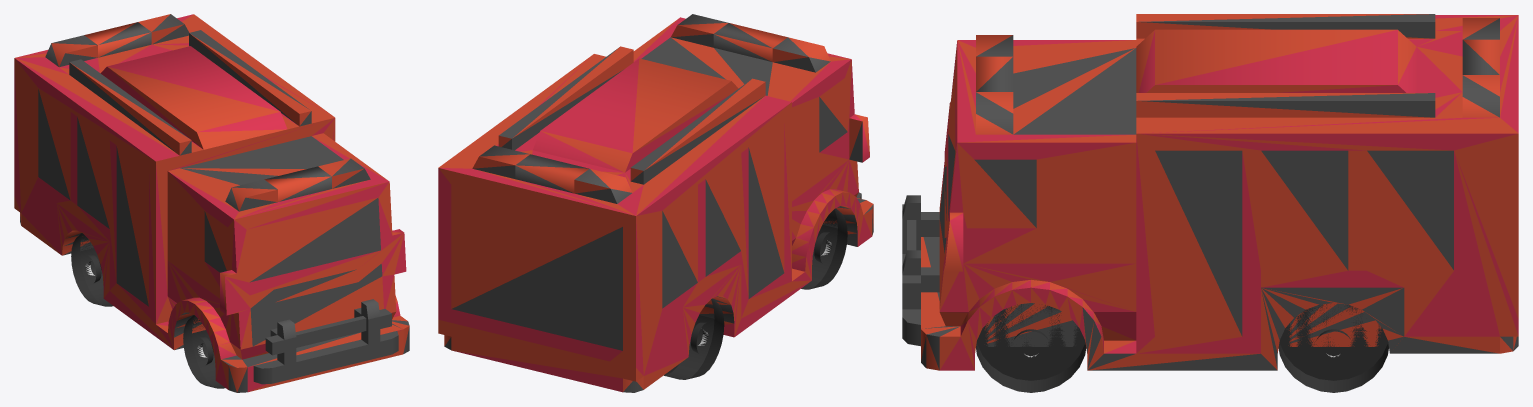
File: razor.glb
3 views of the same model, side by side, from view 1: azimuth 30°, elevation 25°; view 2: azimuth 150°, elevation 25°; view 3: azimuth 270°, elevation 25° (orthographic). The views are drawn at different scales.
Size of the model in its own units: 15 by 17 by 33.
